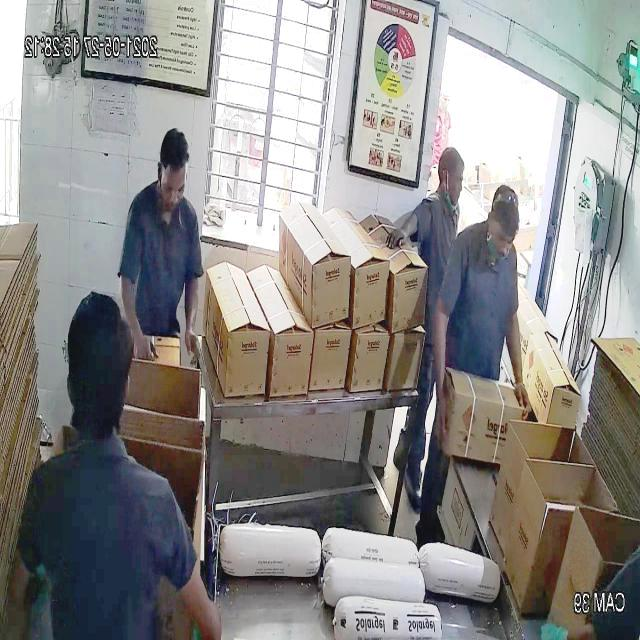face_mask: (486, 232, 516, 264)
face_nomask: (159, 180, 189, 213), (448, 172, 467, 202)
hand_noglove: (431, 399, 454, 442), (132, 334, 162, 364), (384, 225, 414, 252), (180, 329, 206, 360), (510, 385, 534, 417)
head_nohelmet: (68, 296, 133, 380), (490, 185, 520, 234), (158, 127, 195, 162), (438, 142, 466, 168)
person: (25, 290, 202, 640), (406, 189, 532, 546), (382, 144, 474, 415), (113, 128, 205, 370)
